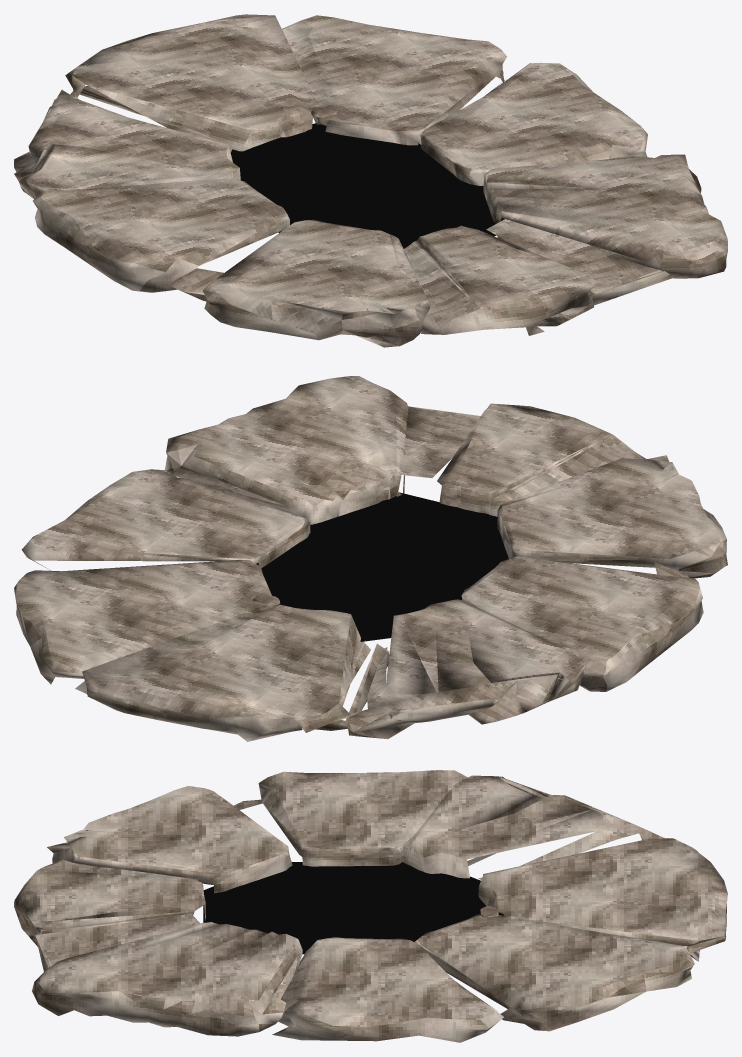
File: cistern.glb
The picture shows the model from 3 angles, top to bottom: view 1: azimuth 30°, elevation 25°; view 2: azimuth 150°, elevation 25°; view 3: azimuth 270°, elevation 25°; orthographic projection. The views are drawn at different scales.
Parts seen in each view (by area): view 1: cistern, pit; view 2: cistern, pit; view 3: cistern, pit.
Part boxes in pixels (x1,y1,x2,y2): cistern: (14, 14, 727, 347); pit: (230, 123, 504, 248); cistern: (14, 376, 727, 741); pit: (256, 492, 508, 641); cistern: (14, 770, 727, 1042); pit: (203, 862, 503, 954).
Size of the model in its own units: 3.95 by 0.2363 by 4.75.
2 materials, 1 textured.
